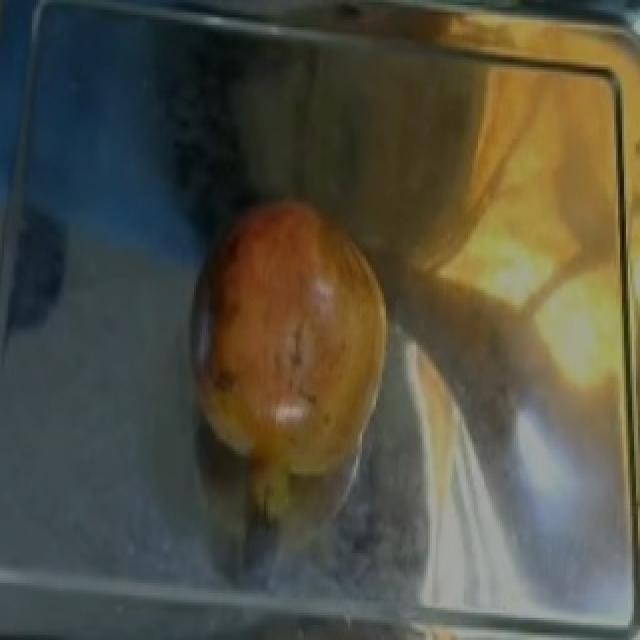fruit: (168, 171, 410, 422)
